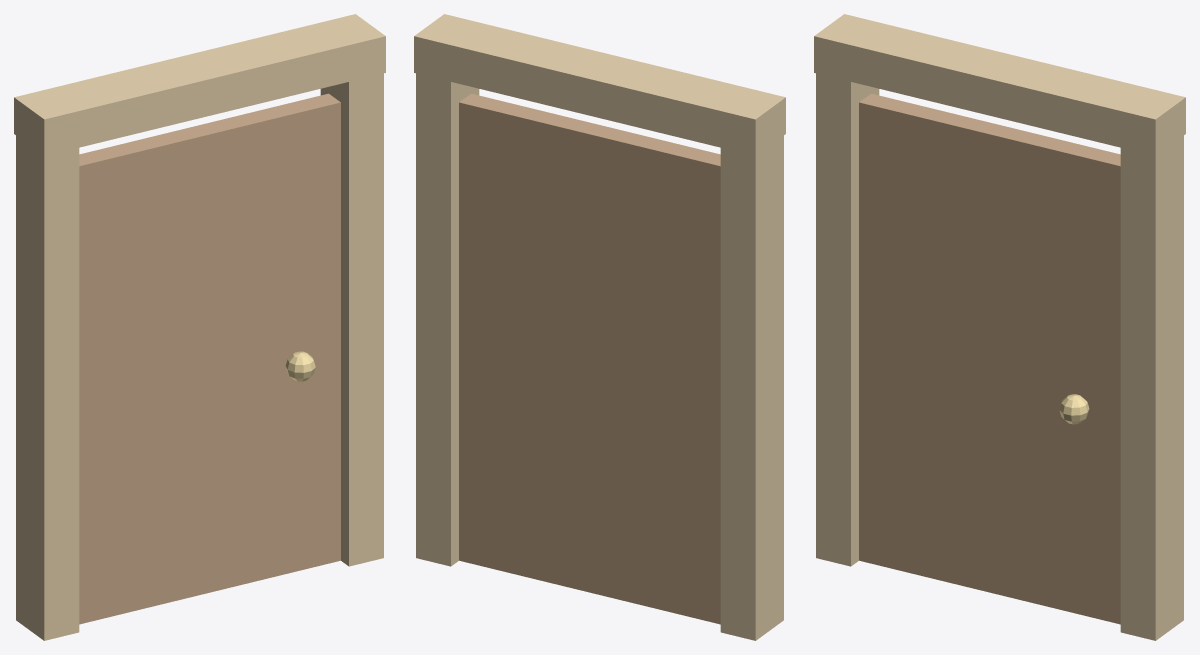
The model's file is wood_door.glb.
The picture shows the model from 3 angles, left to right: view 1: azimuth 30°, elevation 25°; view 2: azimuth 150°, elevation 25°; view 3: azimuth 330°, elevation 25°; orthographic projection.
Parts seen in each view (by area): view 1: door, frame (×2), lintel, knob; view 2: door, frame (×2), lintel; view 3: door, frame (×2), lintel, knob.
Boxes of the visible parts, <box> form: door: <box>79,93,340,624</box>; frame (×2): <box>16,73,383,640</box>; lintel: <box>14,14,385,155</box>; knob: <box>285,351,315,381</box>; door: <box>459,93,720,624</box>; frame (×2): <box>416,73,783,640</box>; lintel: <box>414,14,785,155</box>; door: <box>859,93,1120,624</box>; frame (×2): <box>816,73,1183,640</box>; lintel: <box>814,14,1185,155</box>; knob: <box>1059,394,1089,424</box>.
Bounding box in the file's own units: 1.95 × 2.85 × 0.3513.
